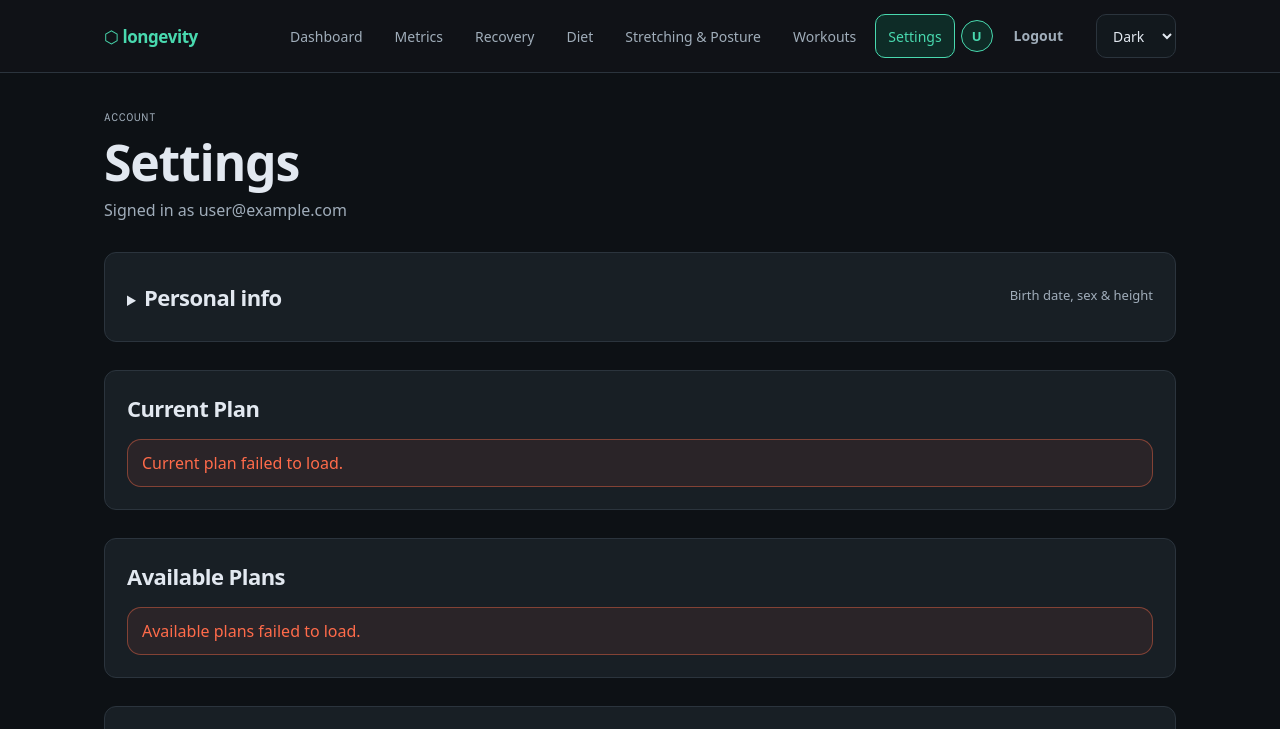
it: logout flow › shows an error and stays on settings when logout fails
The width and height of the screenshot is (1280, 729).
What coordinates should you click on to do the following:
click the button "Logout"
I would click on:
 (1038, 36)
Its box is [999,14,1078,58].
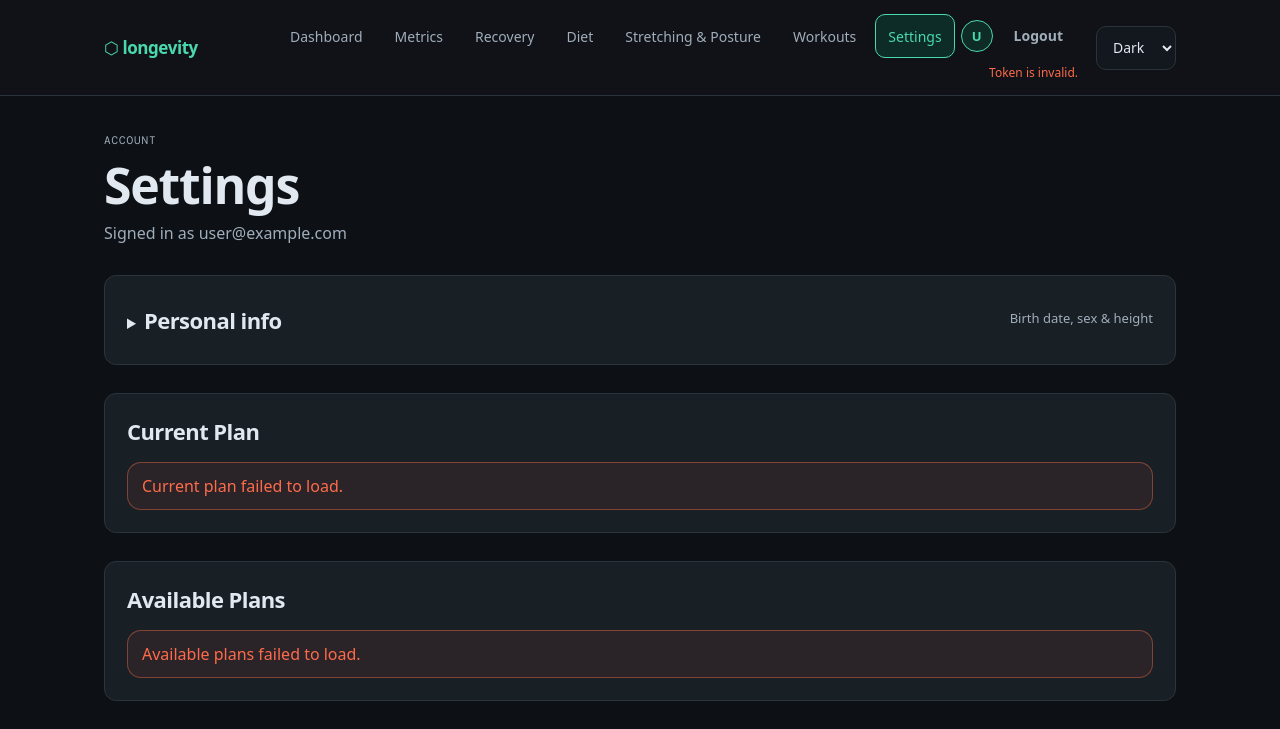
Expected: the heading "Settings" is shown, [104,150,299,218]
Result: the text "Token is invalid." is shown at [989,64,1078,81]
